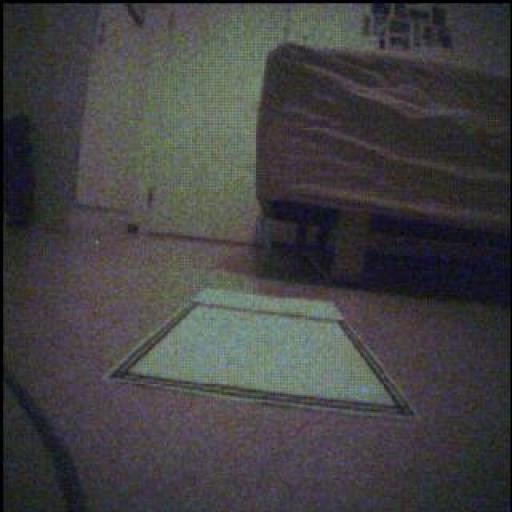pad: (108, 291, 414, 416)
